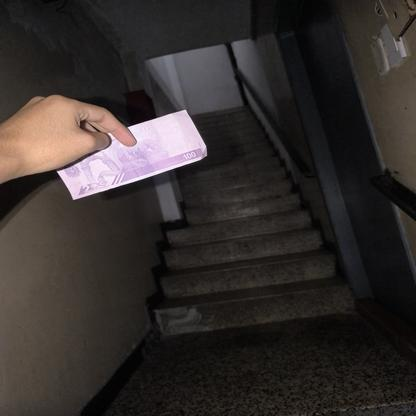one_hundred-back-vef: (53, 108, 208, 201)
